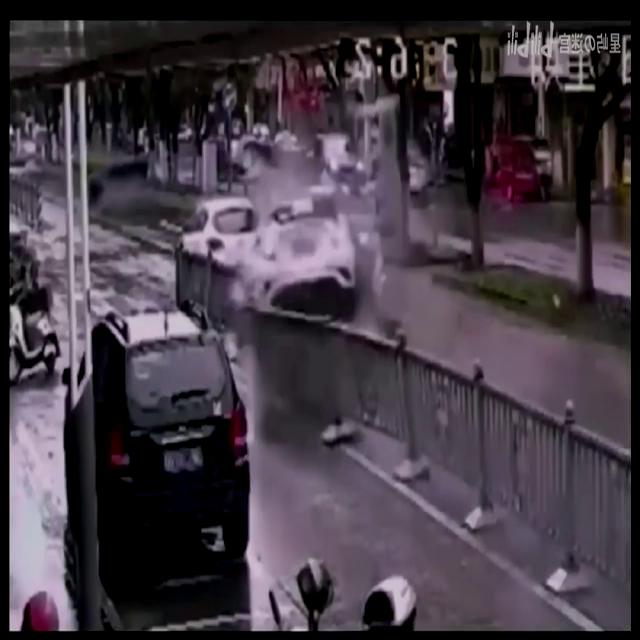accident: (227, 198, 389, 446)
